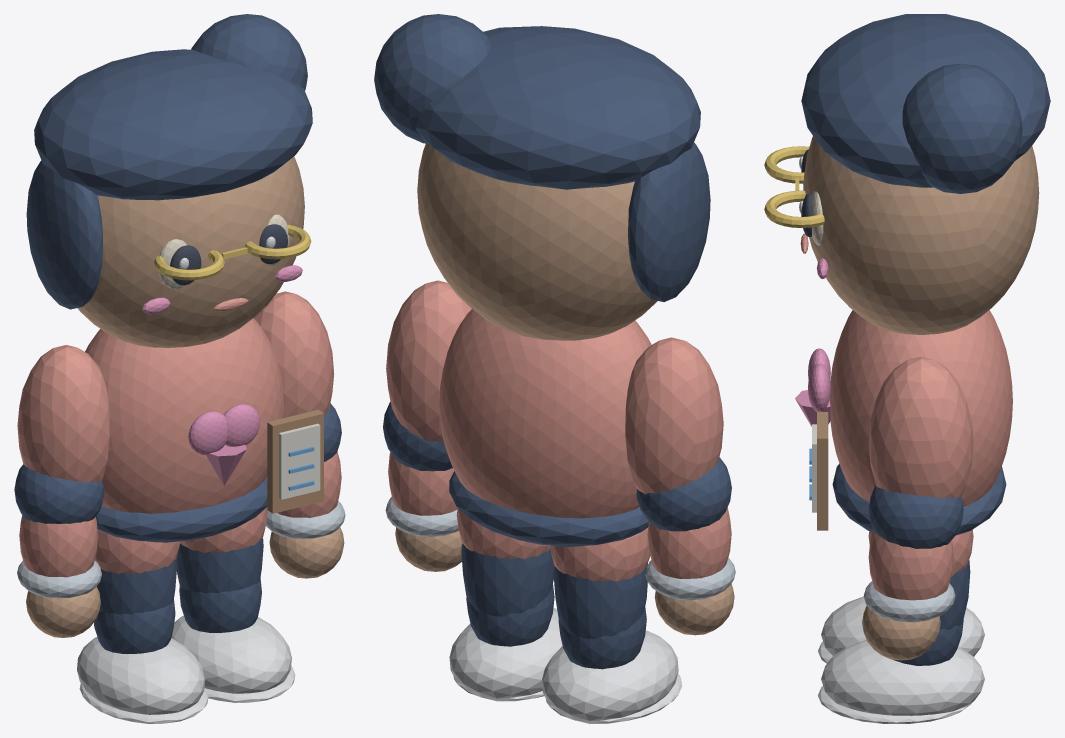
Rendered from avatar_ai_hr_v2.glb.
3 renders of one model, left to right at view 1: azimuth 30°, elevation 25°; view 2: azimuth 150°, elevation 25°; view 3: azimuth 270°, elevation 25°, orthographic. The views are drawn at different scales.
Visible parts, largest first — view 1: hair_cap, body_core, head_face, L_sleeve_upper, hair_side_L, L_shoe, R_sleeve_upper, R_shoe, hair_bun, waist_band, L_sleeve_lower, L_elbow (+24 smaller); view 2: hair_cap, body_core, head_face, L_sleeve_upper, hair_side_L, hair_bun, R_sleeve_upper, L_shoe, R_shoe, waist_band, L_leg, R_leg (+13 smaller); view 3: head_face, hair_cap, body_core, hair_bun, R_sleeve_upper, R_shoe, R_elbow, R_sleeve_lower, R_hand, L_shoe, waist_band, R_cuff (+9 smaller).
Boxes of the visible parts, x1,y1,x2,y2 form: hair_cap: [34, 49, 312, 200]; body_core: [85, 318, 284, 513]; head_face: [77, 156, 304, 347]; L_sleeve_upper: [17, 345, 109, 482]; hair_side_L: [26, 160, 102, 309]; L_shoe: [77, 637, 205, 714]; R_sleeve_upper: [254, 291, 333, 417]; R_shoe: [171, 615, 291, 693]; hair_bun: [191, 14, 307, 90]; waist_band: [95, 476, 267, 542]; L_sleeve_lower: [19, 515, 98, 577]; L_elbow: [14, 464, 104, 523]; hair_cap: [415, 26, 700, 189]; body_core: [439, 309, 651, 546]; head_face: [417, 143, 657, 340]; L_sleeve_upper: [625, 337, 723, 494]; hair_side_L: [628, 142, 710, 301]; hair_bun: [374, 14, 491, 143]; R_sleeve_upper: [386, 280, 471, 441]; L_shoe: [541, 630, 678, 723]; R_shoe: [449, 608, 562, 701]; waist_band: [449, 471, 648, 546]; L_leg: [553, 563, 647, 639]; R_leg: [461, 543, 554, 616]; head_face: [803, 136, 1039, 334]; hair_cap: [801, 14, 1050, 187]; body_core: [829, 310, 1012, 506]; hair_bun: [902, 63, 1022, 193]; R_sleeve_upper: [868, 356, 973, 497]; R_shoe: [821, 640, 984, 715]; R_elbow: [868, 485, 963, 548]; R_sleeve_lower: [868, 530, 953, 600]; R_hand: [862, 605, 940, 660]; L_shoe: [821, 596, 984, 656]; waist_band: [832, 463, 1006, 535]; R_cuff: [864, 581, 955, 622].
Bounding box in the file's own units: 1.17 × 2.25 × 0.873.
